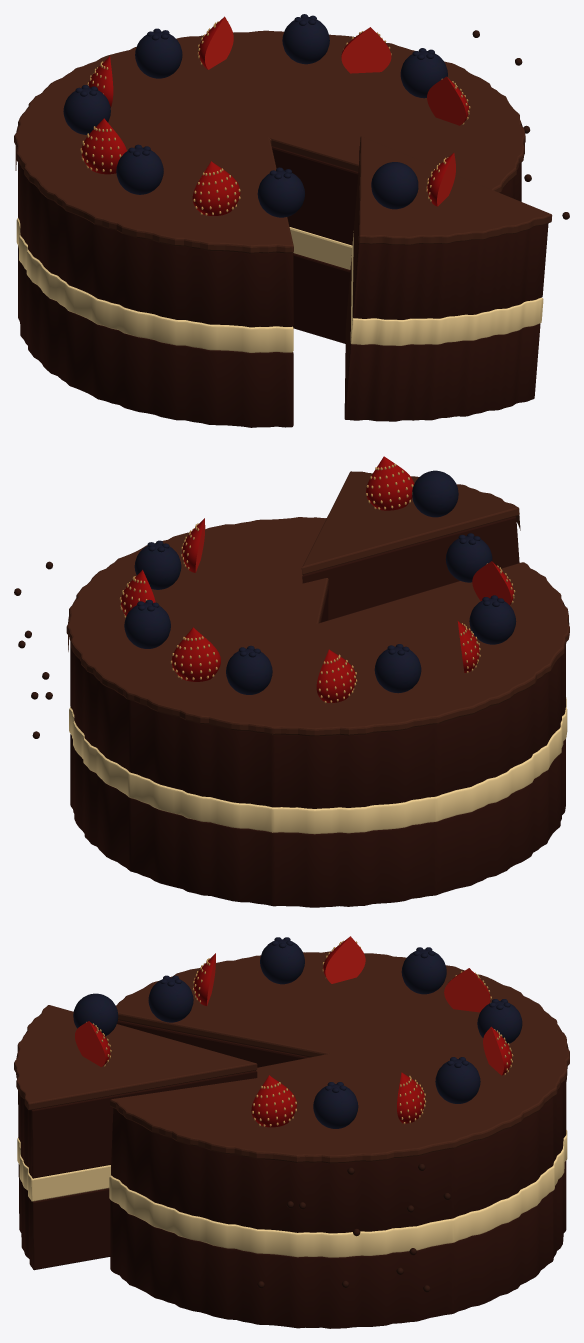
The model's file is yemape-chocolate.glb.
3 views of the same model, one above another, from view 1: azimuth 30°, elevation 25°; view 2: azimuth 150°, elevation 25°; view 3: azimuth 270°, elevation 25° (orthographic). The views are drawn at different scales.
Visible parts, largest first — view 1: CakeGeometry, SliceGeometry; view 2: CakeGeometry, SliceGeometry; view 3: CakeGeometry, SliceGeometry, CrumbsGeometry.
Boxes of the visible parts, x1,y1,x2,y2 form: CakeGeometry: (14,14,525,427); SliceGeometry: (344,136,552,421); CakeGeometry: (66,517,569,907); SliceGeometry: (301,456,520,620); CakeGeometry: (109,936,569,1328); SliceGeometry: (14,993,257,1270); CrumbsGeometry: (257,1163,450,1292).
Bounding box in the file's own units: 0.431 × 0.2067 × 0.4434.
7 materials, 4 textured.
